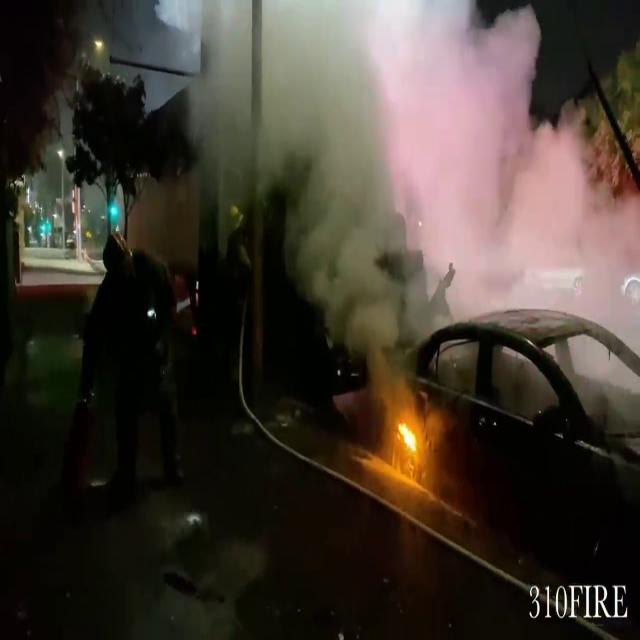Fire: (392, 405, 423, 472)
Smoke: (186, 0, 637, 317)
